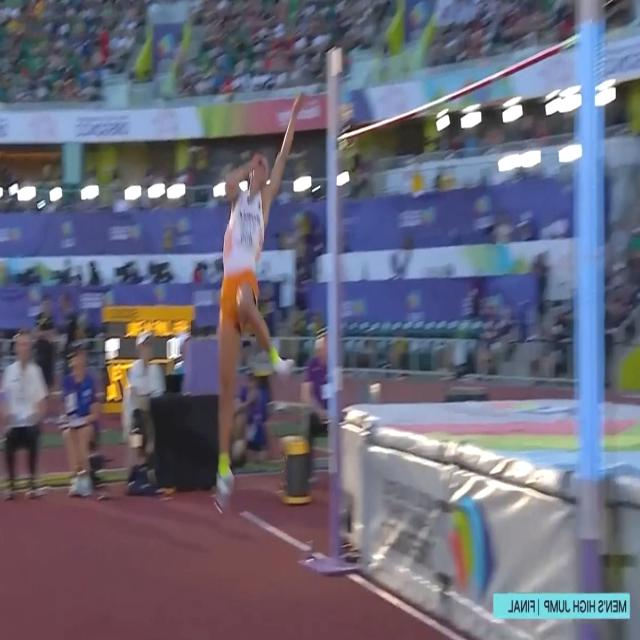jump: (210, 88, 307, 516)
